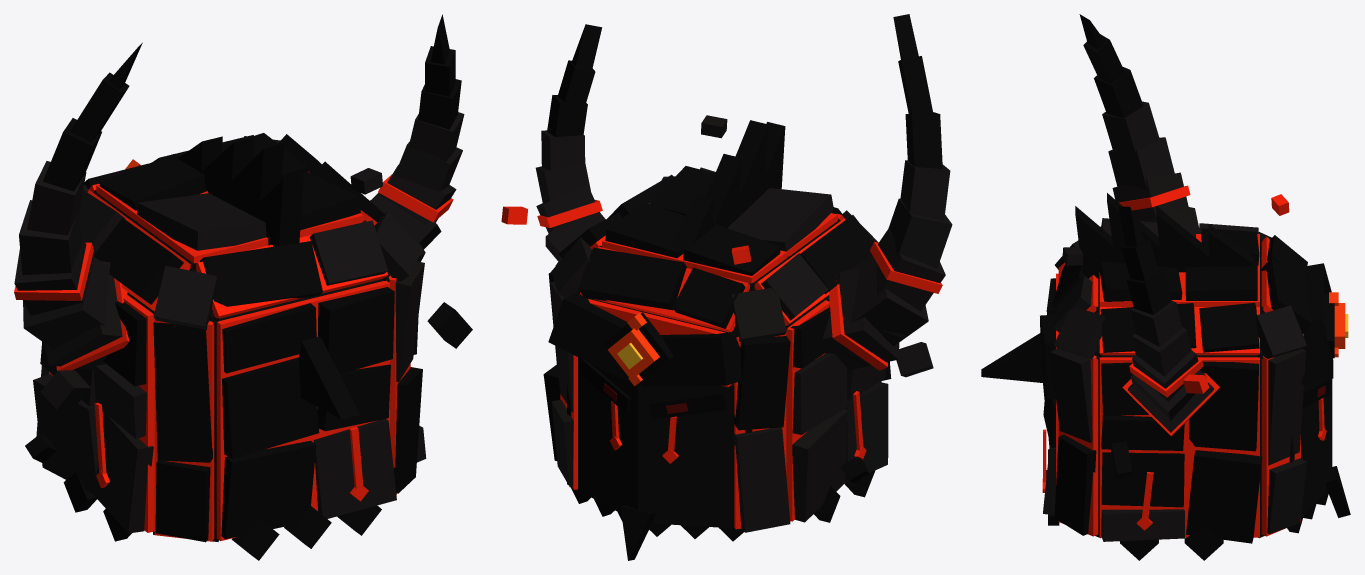
The model's file is CasqueMagma.obj.
3 renders of one model, left to right at view 1: azimuth 30°, elevation 25°; view 2: azimuth 150°, elevation 25°; view 3: azimuth 270°, elevation 25°, orthographic. The views are drawn at different scales.
Visible parts, largest first — view 1: Plaques, Plaques_roche, Cornes, Fissures, Pointes, Cornes_obsidienne, Eclats, Coque, Eclats_obsidienne; view 2: Plaques, Plaques_roche, Visiere, Cornes, Fissures, Pointes, Cornes_obsidienne, Visiere_fente, Eclats, Cristal, Eclats_magma, Coque; view 3: Plaques, Plaques_roche, Fissures, Cornes, Pointes, Cornes_obsidienne, Visiere, Coque, Eclats_magma, Cristal, Eclats_obsidienne.
Boxes of the visible parts, x1=… form: Plaques: x1=84, y1=133, x2=422, y2=542; Plaques_roche: x1=33, y1=136, x2=426, y2=533; Cornes: x1=14, y1=112, x2=464, y2=369; Fissures: x1=14, y1=171, x2=453, y2=541; Pointes: x1=63, y1=136, x2=381, y2=560; Cornes_obsidienne: x1=43, y1=14, x2=461, y2=191; Eclats: x1=41, y1=168, x2=382, y2=409; Coque: x1=93, y1=190, x2=389, y2=541; Eclats_obsidienne: x1=25, y1=302, x2=472, y2=462; Plaques: x1=543, y1=166, x2=891, y2=460; Plaques_roche: x1=550, y1=167, x2=888, y2=532; Visiere: x1=567, y1=357, x2=752, y2=528; Cornes: x1=535, y1=130, x2=952, y2=370; Fissures: x1=537, y1=200, x2=942, y2=529; Pointes: x1=571, y1=120, x2=874, y2=560; Cornes_obsidienne: x1=547, y1=14, x2=942, y2=168; Visiere_fente: x1=580, y1=359, x2=726, y2=419; Eclats: x1=701, y1=115, x2=933, y2=377; Cristal: x1=607, y1=313, x2=659, y2=386; Eclats_magma: x1=501, y1=206, x2=750, y2=264; Coque: x1=578, y1=218, x2=840, y2=384; Plaques: x1=1040, y1=228, x2=1334, y2=543; Plaques_roche: x1=1043, y1=218, x2=1306, y2=541; Fissures: x1=1042, y1=185, x2=1326, y2=537; Cornes: x1=1102, y1=101, x2=1213, y2=432; Pointes: x1=981, y1=193, x2=1350, y2=560; Cornes_obsidienne: x1=1079, y1=14, x2=1171, y2=315; Visiere: x1=1289, y1=379, x2=1332, y2=527; Coque: x1=1094, y1=239, x2=1265, y2=538; Eclats_magma: x1=1183, y1=194, x2=1289, y2=393; Cristal: x1=1329, y1=292, x2=1345, y2=357; Eclats_obsidienne: x1=1110, y1=441, x2=1132, y2=478.
Bounding box in the file's own units: 2.75 × 3.02 × 2.28.
